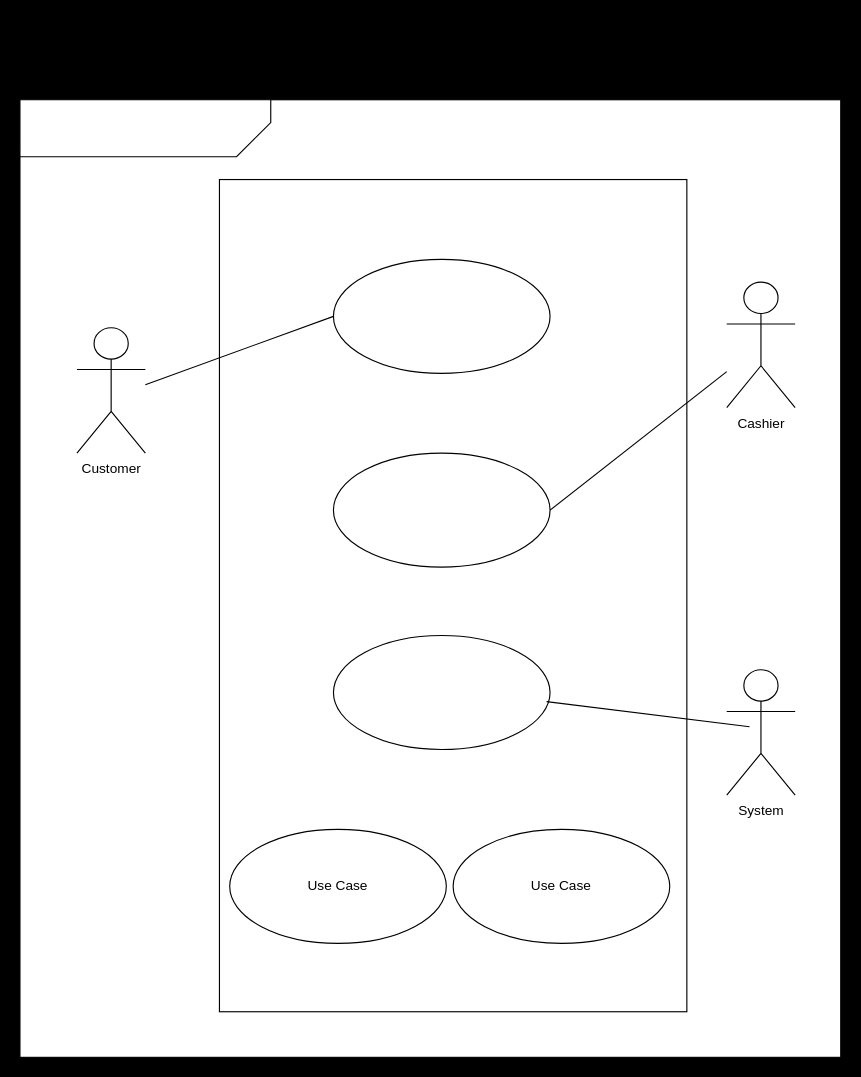
Some shapes in this 861 by 1077 pixel diagram are drawn without their labels. The shapes that lost their labels are listed below. From the top down, each one's centre as x and y in pixels, then its label:
At [441,315]: "Enter/Exit Queue".
At [441,509]: "Process Checkout".
At [441,692]: "Checkout Lanes".
